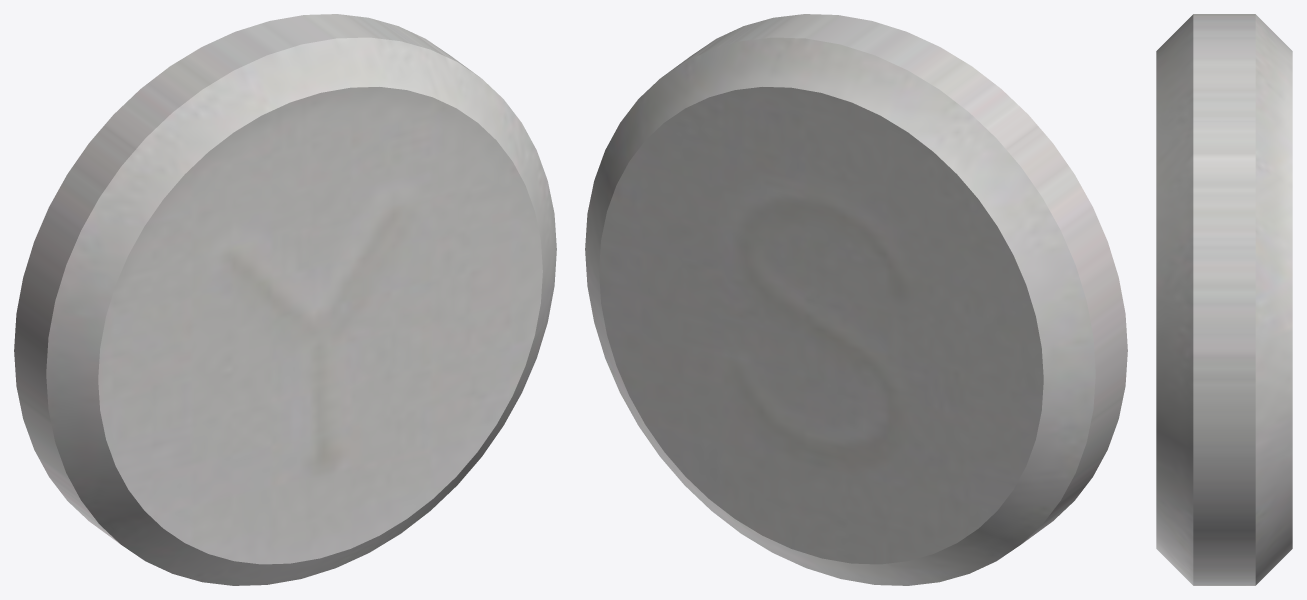
Rendered from 20140530GOPHDRGPT13186.fbx.
The picture shows the model from 3 angles, left to right: view 1: azimuth 30°, elevation 25°; view 2: azimuth 150°, elevation 25°; view 3: azimuth 270°, elevation 25°; orthographic projection. The views are drawn at different scales.
Parts seen in each view (by area): view 1: BezierCircle; view 2: BezierCircle; view 3: BezierCircle.
Boxes of the visible parts, x1=… form: BezierCircle: x1=14, y1=14, x2=556, y2=585; BezierCircle: x1=585, y1=14, x2=1127, y2=585; BezierCircle: x1=1156, y1=14, x2=1292, y2=585.
Bounding box in the file's own units: 0.6852 × 0.6852 × 0.1629.
